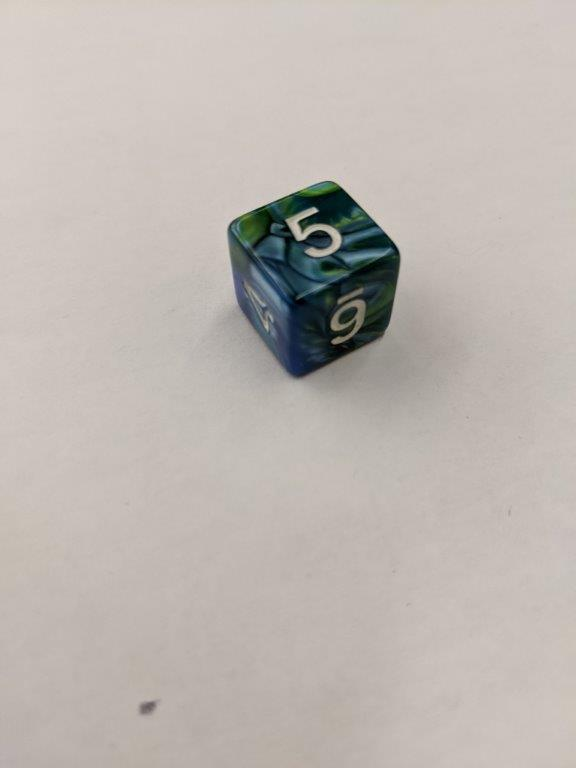d6-5: (228, 179, 402, 379)
